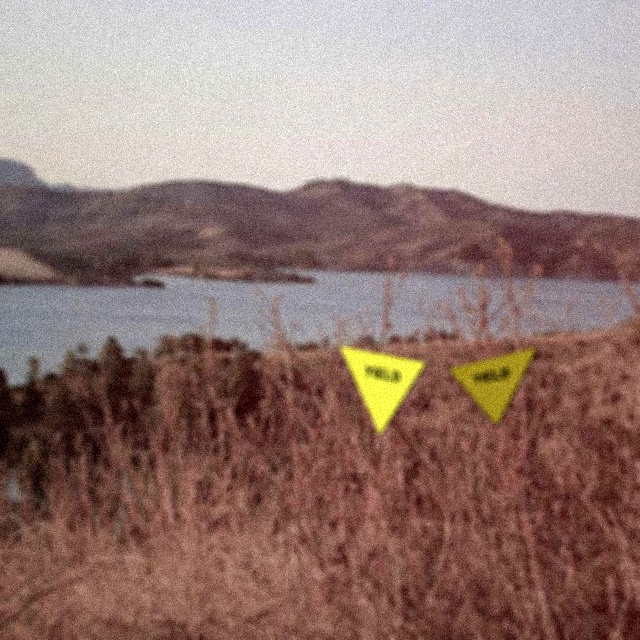YIELD: (338, 345, 427, 437), (447, 346, 539, 427)
